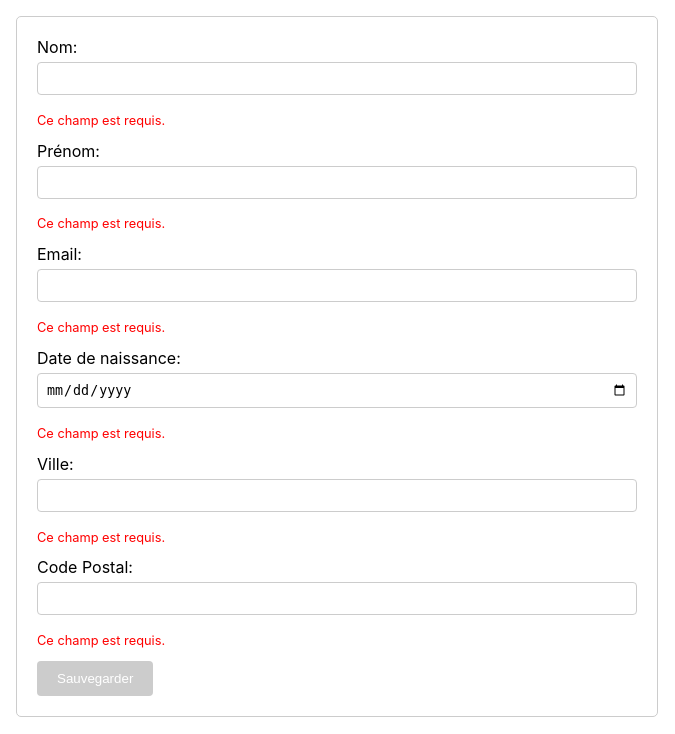
Test: App › tests for the form › prenom › should display an error message if the input is invalid tot@
Step 1. Type "tot@" into the field with test id "inputPrenom" → coordinates (337, 182), box [37,166,637,199]
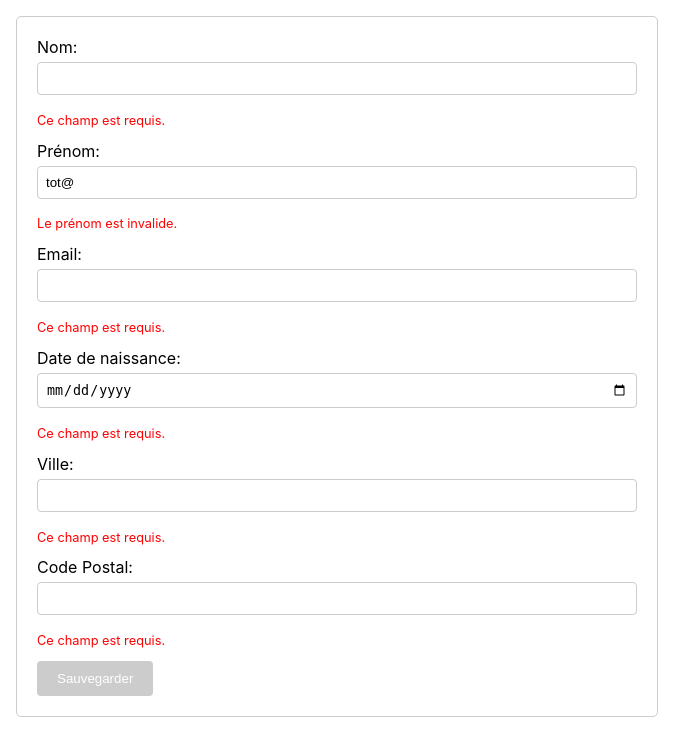
Now the text "Le prénom est invalide." is shown, box [37,216,177,231]
